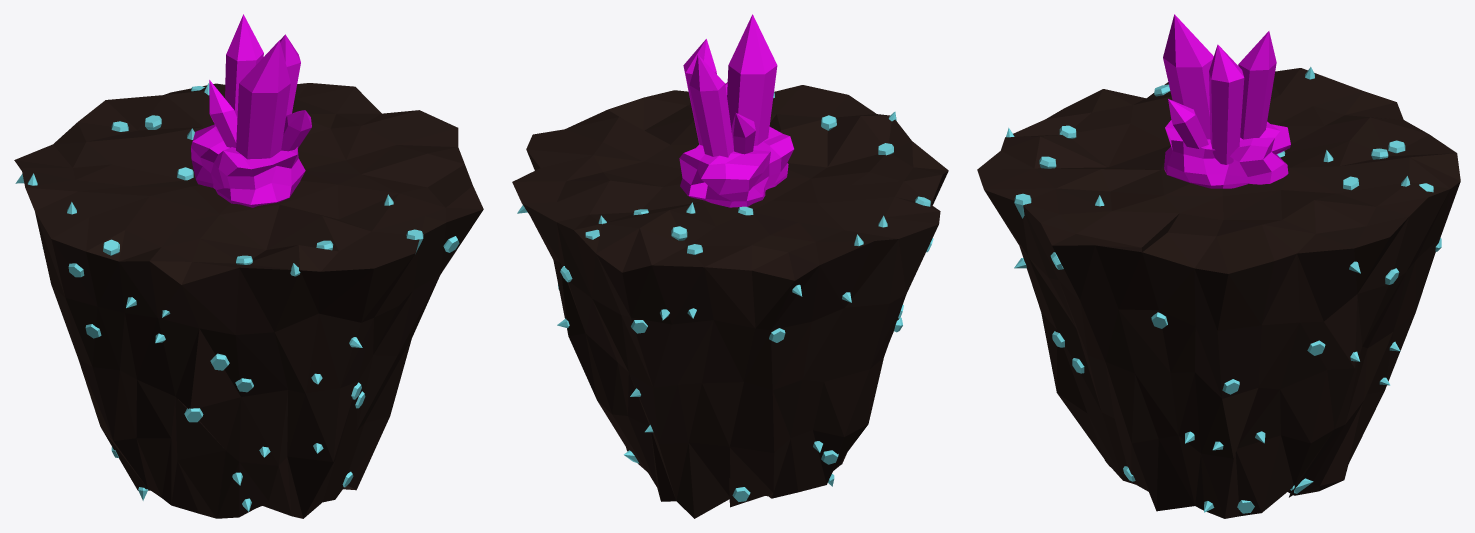
File: Ostrov-crystal.fbx
The picture shows the model from 3 angles, left to right: view 1: azimuth 30°, elevation 25°; view 2: azimuth 150°, elevation 25°; view 3: azimuth 270°, elevation 25°; orthographic projection. The views are drawn at different scales.
Parts seen in each view (by area): view 1: Cube, Конус.004, Конус.054; view 2: Cube, Конус.004, Конус.054; view 3: Cube, Конус.004, Конус.054.
Boxes of the visible parts, <box> form: Cube: <box>14,83,483,518</box>; Конус.004: <box>191,14,311,207</box>; Конус.054: <box>15,83,459,511</box>; Cube: <box>512,85,948,518</box>; Конус.004: <box>679,14,793,207</box>; Конус.054: <box>517,92,933,501</box>; Cube: <box>977,68,1460,518</box>; Конус.004: <box>1163,14,1290,188</box>; Конус.054: <box>1006,67,1441,513</box>.
Bounding box in the file's own units: 2685 × 2869 × 2670.
